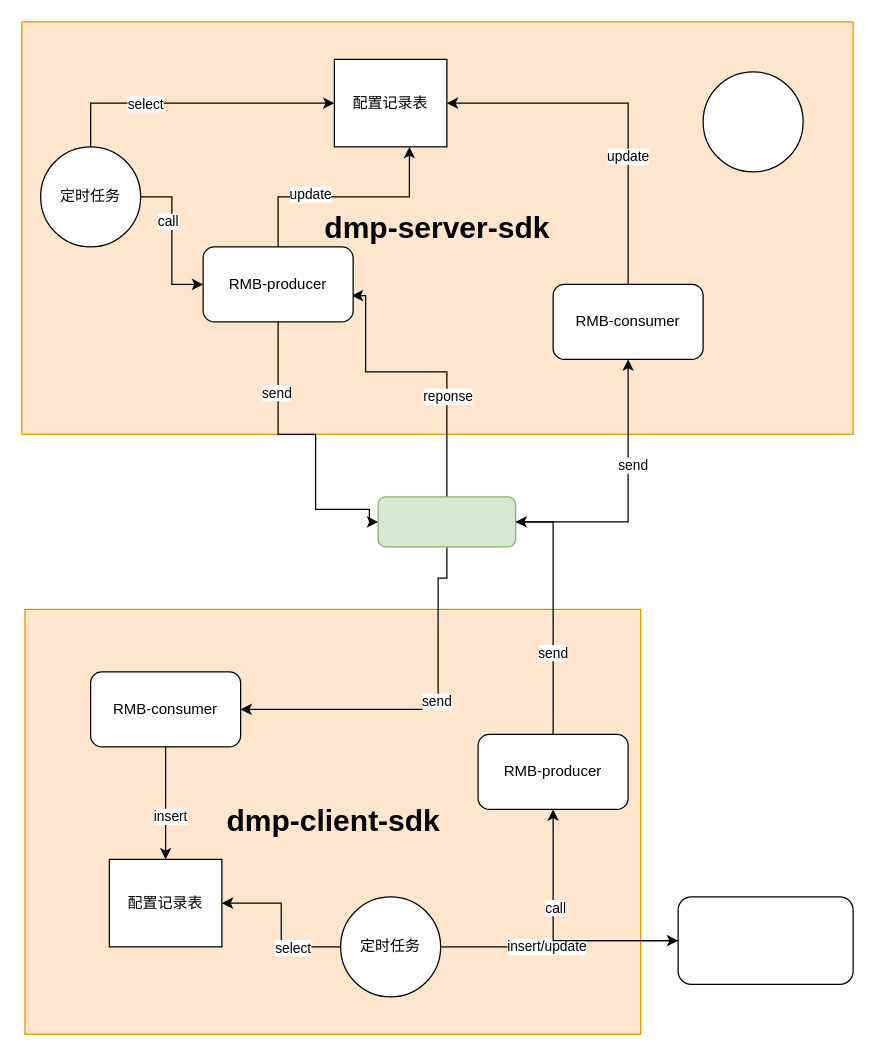
Some shapes in this 875 by 1056 pixel diagram are drawn without their labels. The centre of each missing label's shape, as x and y in pixels:
"RMB-borker" goes at point 446,521.
"业务DB" goes at point 765,940.
"监控、告警" goes at point 752,121.
